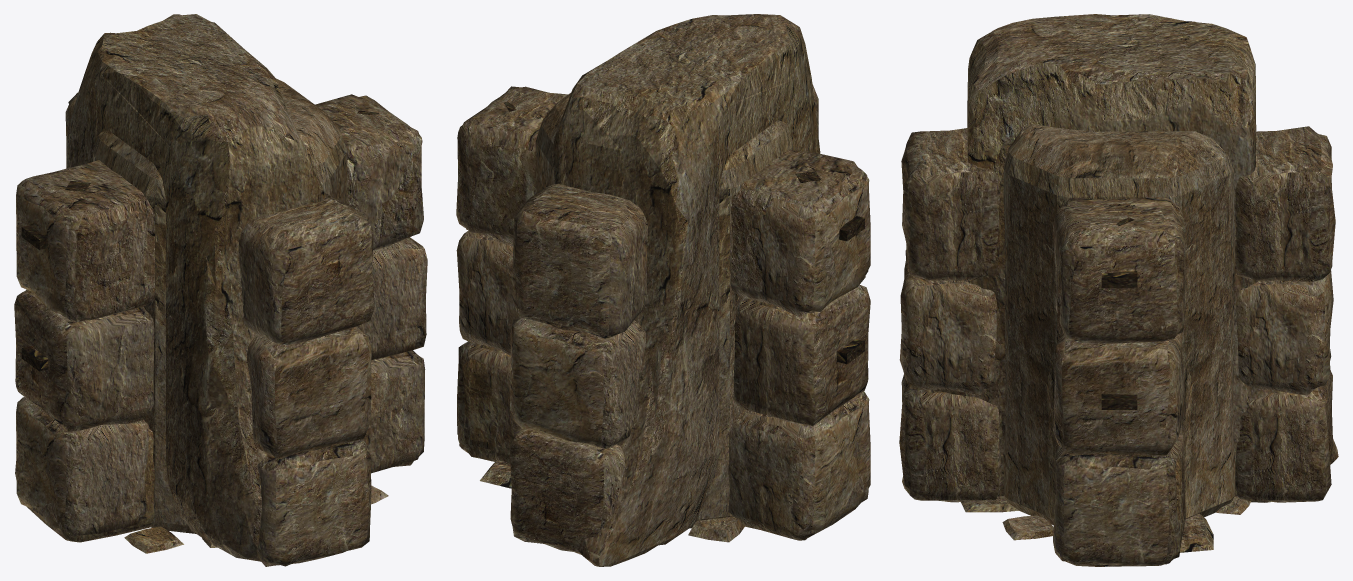
The model's file is walls.glb.
The picture shows the model from 3 angles, left to right: view 1: azimuth 30°, elevation 25°; view 2: azimuth 150°, elevation 25°; view 3: azimuth 270°, elevation 25°; orthographic projection.
Parts seen in each view (by area): view 1: Tombstone, Wall-tee, Wall-corner, Wall-cross, Wall, Wall-end, Wall-sides, Fence, Road; view 2: Tombstone, Wall-cross, Wall, Wall-tee, Wall-corner, Fence, Wall-sides, Wall-end, Road; view 3: Wall-cross, Wall-end, Tombstone, Wall-tee, Wall-sides, Wall-corner, Wall, Road, Fence.
Boxes of the visible parts, x1,y1,x2,y2 form: Tombstone: (66,14,325,561); Wall-tee: (14,80,424,566); Wall-corner: (15,152,373,566); Wall-cross: (15,91,424,566); Wall: (15,94,422,542); Wall-end: (17,78,347,536); Wall-sides: (25,150,427,534); Fence: (21,110,421,542); Road: (124,485,388,553); Tombstone: (552,14,820,566); Wall-cross: (456,84,867,554); Wall: (462,86,868,539); Wall-tee: (456,85,870,531); Wall-corner: (695,92,870,531); Fence: (458,102,868,540); Wall-sides: (456,145,869,530); Wall-end: (535,93,869,530); Road: (480,460,744,542); Wall-cross: (899,124,1335,564); Wall-end: (1003,131,1235,524); Tombstone: (932,14,1338,502); Wall-tee: (901,124,1185,565); Wall-sides: (1006,147,1185,565); Wall-corner: (899,128,1001,500); Wall: (1053,197,1185,489); Road: (961,496,1251,552); Fence: (1056,217,1181,566).
Size of what is drawn, in the model's own units: 1.07 by 1.16 by 1.06.
Materials: 1 (1 with a texture image).
